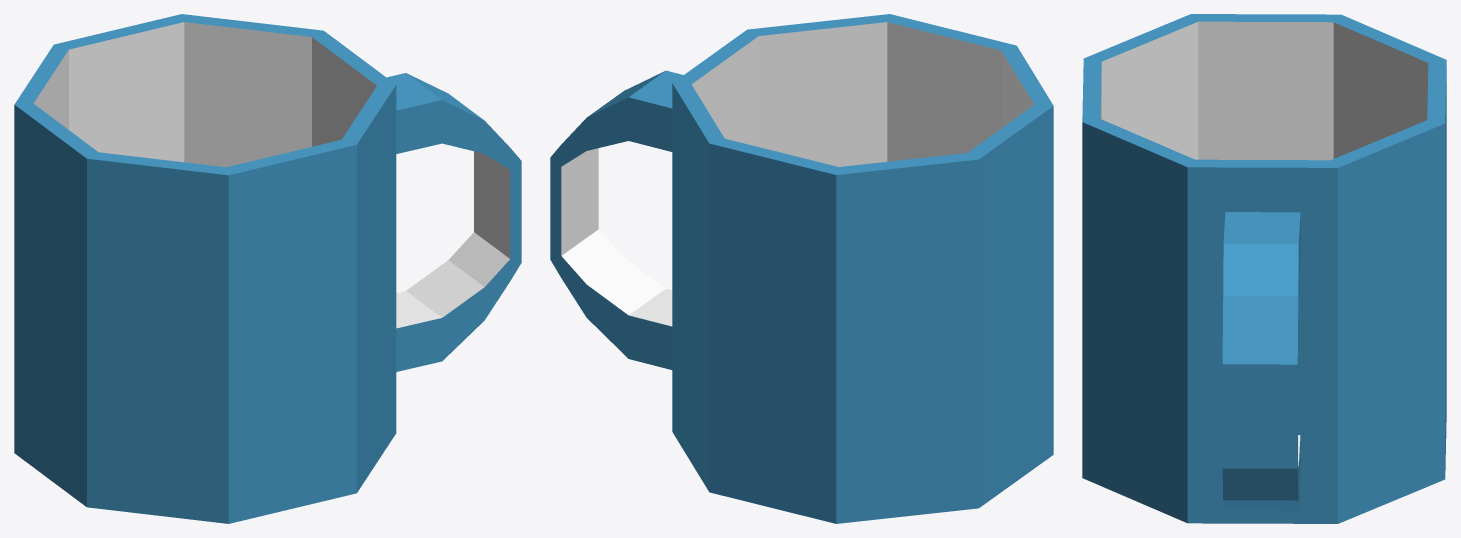
Rendered from Mug.fbx.
The picture shows the model from 3 angles, left to right: view 1: azimuth 30°, elevation 25°; view 2: azimuth 150°, elevation 25°; view 3: azimuth 270°, elevation 25°; orthographic projection. The views are drawn at different scales.
Parts seen in each view (by area): view 1: Mug; view 2: Mug; view 3: Mug.
Part boxes in pixels (x1=…): Mug: x1=14, y1=14, x2=521, y2=523; Mug: x1=550, y1=14, x2=1053, y2=523; Mug: x1=1082, y1=14, x2=1446, y2=523.
Bounding box in the file's own units: 366 × 271 × 251.
